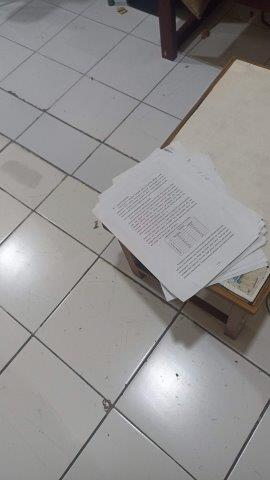kertas: (97, 144, 268, 304)
